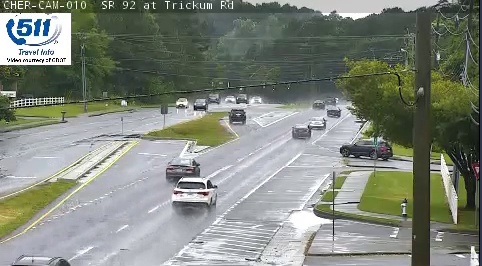car: (172, 177, 217, 206), (166, 158, 200, 180), (291, 124, 310, 139), (307, 117, 326, 130), (227, 109, 246, 122)
